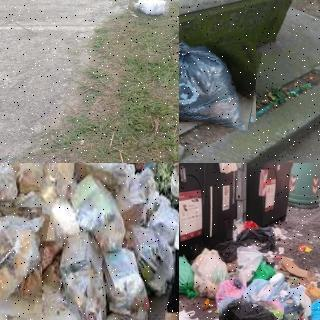Garbage: (179, 37, 259, 126), (58, 230, 118, 320), (0, 204, 46, 316), (65, 172, 128, 252), (102, 252, 150, 320), (71, 163, 133, 195), (192, 246, 227, 297), (217, 298, 282, 320), (0, 163, 22, 218), (236, 226, 276, 249), (179, 255, 196, 299), (128, 0, 169, 18), (216, 278, 242, 306)
